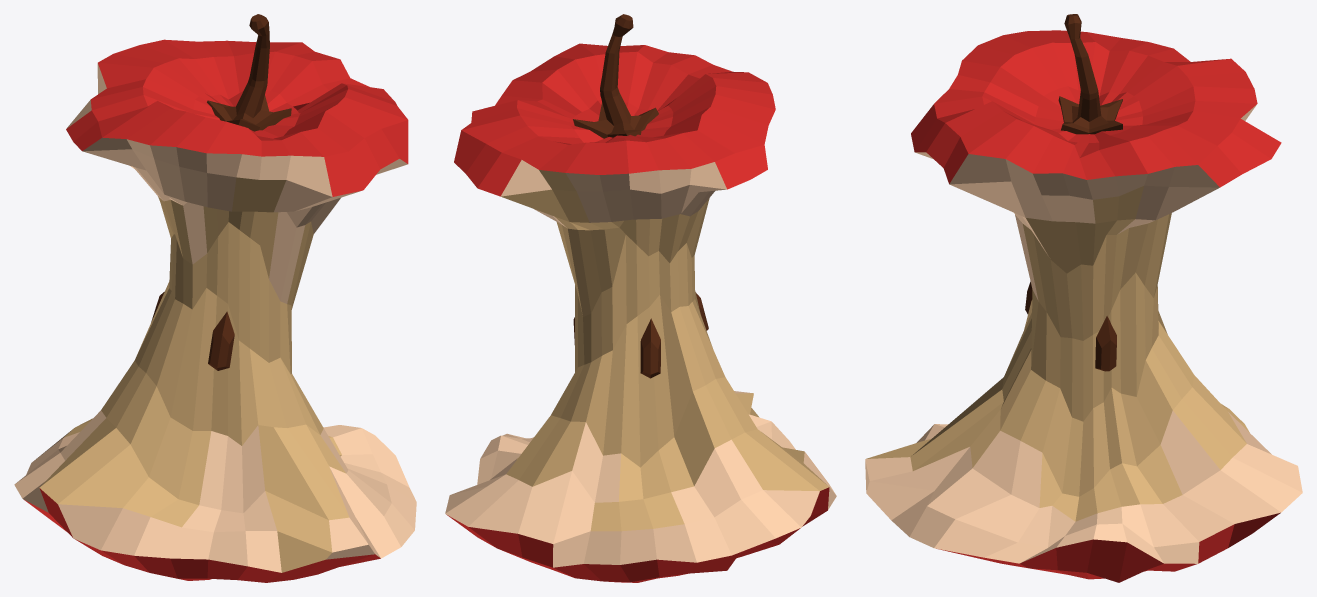
File: trognon_pomme.fbx
The picture shows the model from 3 angles, left to right: view 1: azimuth 30°, elevation 25°; view 2: azimuth 150°, elevation 25°; view 3: azimuth 270°, elevation 25°; orthographic projection. The views are drawn at different scales.
Parts seen in each view (by area): view 1: pomme, queue, pepins; view 2: pomme, queue, pepins; view 3: pomme, queue, pepins.
Part boxes in pixels (x1=…): pomme: x1=14, y1=39, x2=416, y2=582; queue: x1=207, y1=14, x2=291, y2=131; pepins: x1=151, y1=292, x2=234, y2=370; pomme: x1=445, y1=43, x2=836, y2=582; queue: x1=573, y1=14, x2=658, y2=138; pepins: x1=573, y1=292, x2=708, y2=378; pomme: x1=865, y1=30, x2=1302, y2=582; queue: x1=1058, y1=14, x2=1122, y2=134; pepins: x1=1025, y1=281, x2=1116, y2=371.
Size of the model in its own units: 76.92 by 116 by 85.31.
